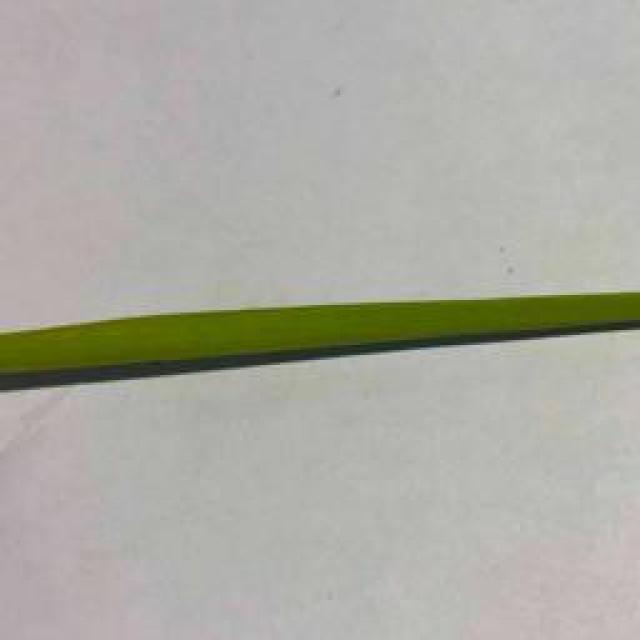Healthy-Plant: (1, 279, 640, 398)
